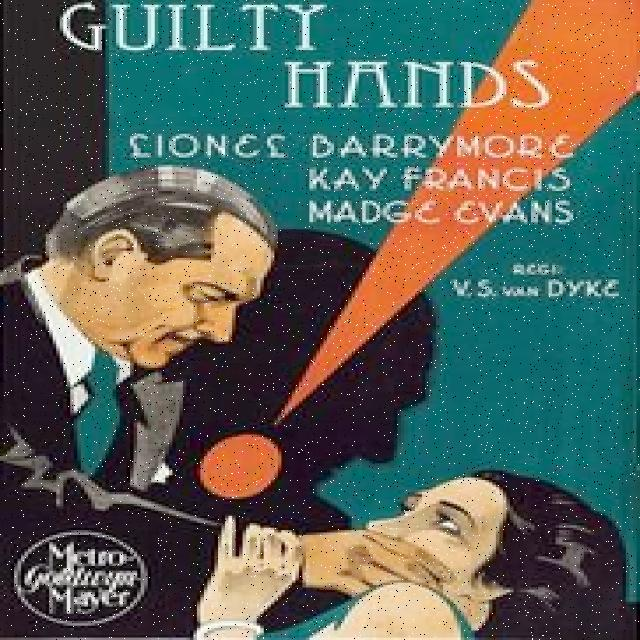movie-judul: (56, 0, 563, 115)
picture: (6, 163, 629, 632)
